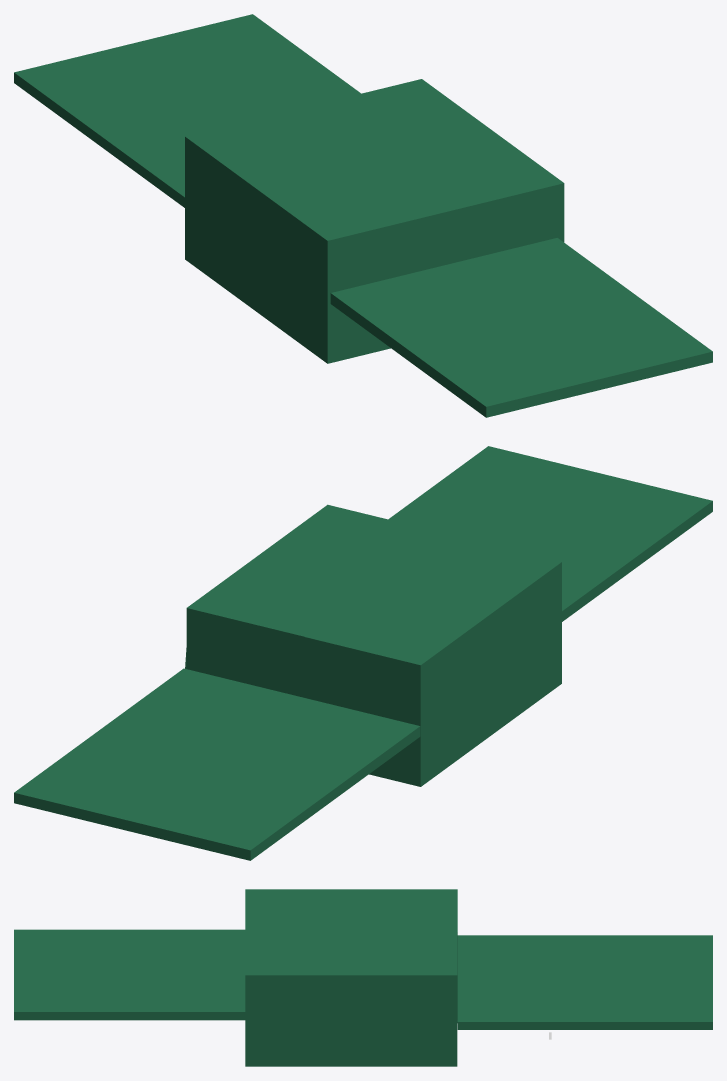
The model's file is Josue trampilla azul .fbx.
3 views of the same model, one above another, from view 1: azimuth 30°, elevation 25°; view 2: azimuth 150°, elevation 25°; view 3: azimuth 270°, elevation 25° (orthographic). The views are drawn at different scales.
Visible parts, largest first — view 1: Cube; view 2: Cube; view 3: Cube.
Part boxes in pixels (x1=…): Cube: x1=14, y1=14, x2=712, y2=417; Cube: x1=14, y1=446, x2=712, y2=860; Cube: x1=14, y1=889, x2=712, y2=1066.
Size of the model in its own units: 409 by 200 by 1384.
